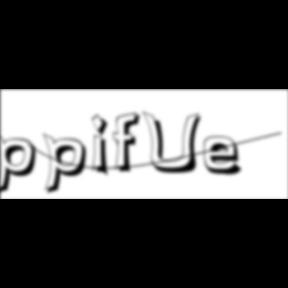U: (142, 110, 207, 176)
e: (204, 135, 250, 178)
f: (114, 111, 146, 175)
i: (92, 112, 116, 180)
p: (43, 132, 93, 198), (1, 132, 44, 198)
